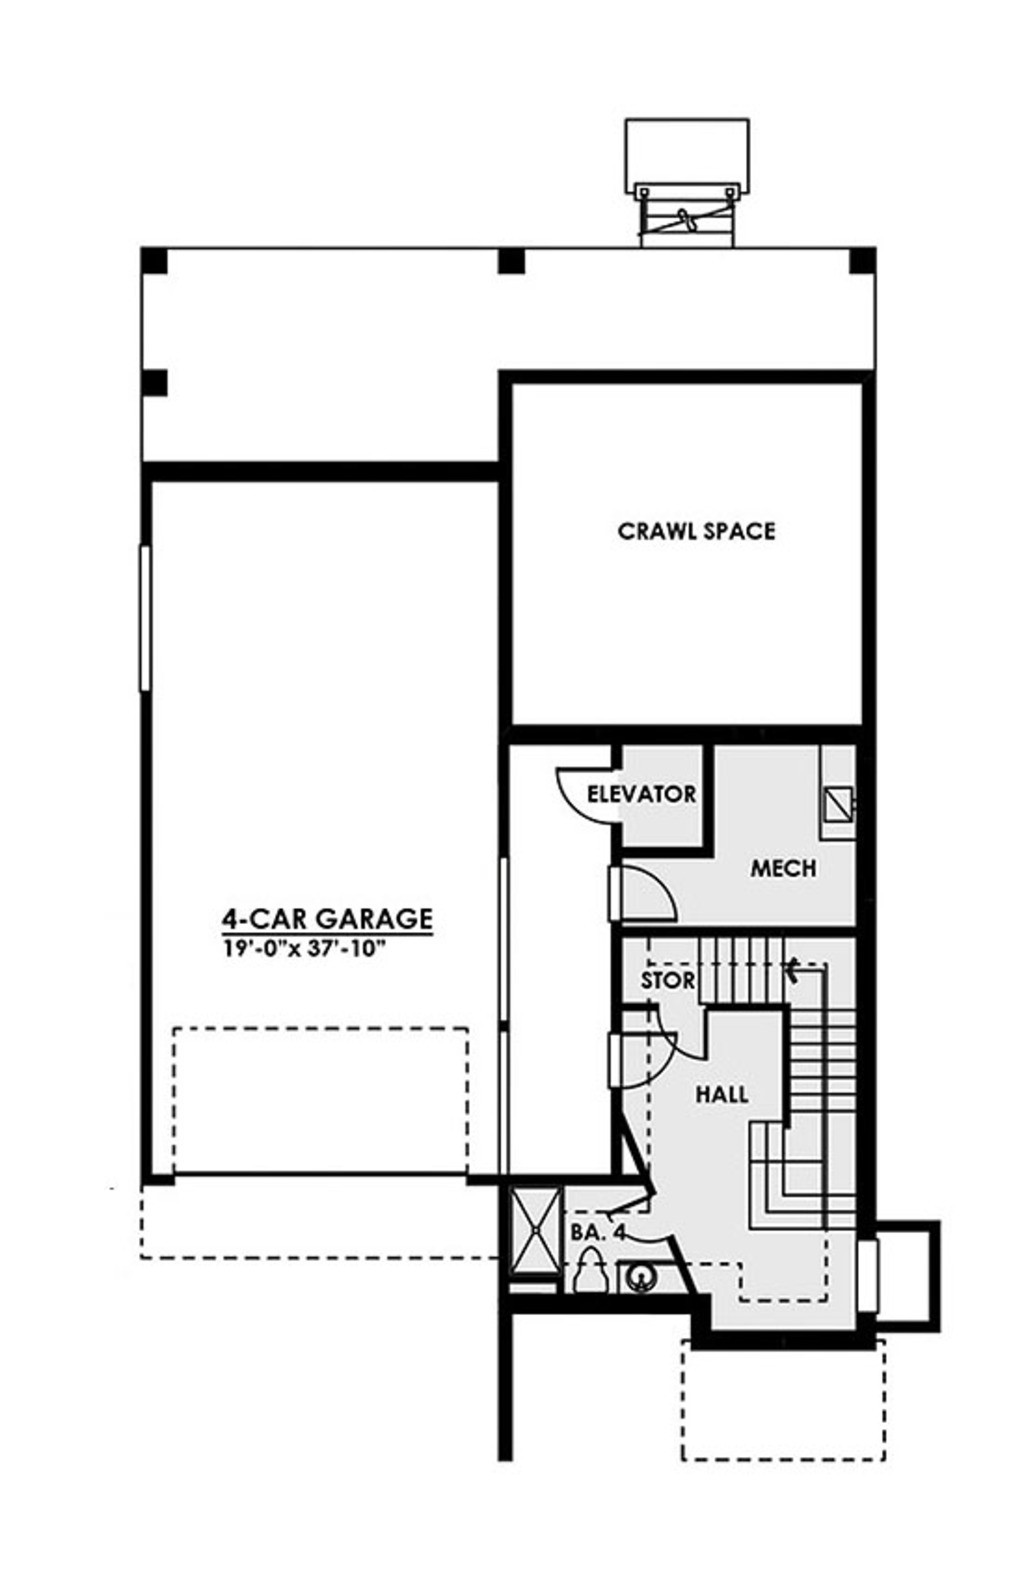door: (607, 861, 682, 931), (550, 760, 622, 829), (609, 1031, 684, 1097)
large_sink: (574, 1243, 616, 1302)
small_sink: (618, 1254, 664, 1295)
stairs: (692, 936, 860, 1234), (626, 176, 745, 251)
